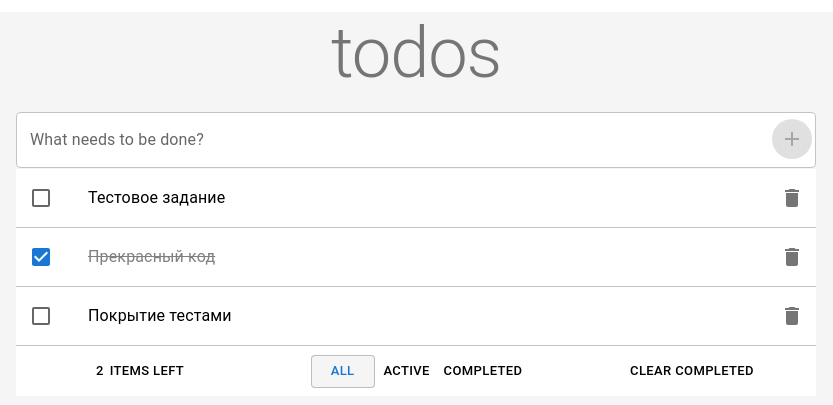
Test: TodoList › should filter tasks by completed status
This screenshot has width=833, height=405.
expect the list is shown: met, box [16,169,816,346]
expect the number of list items is 3: met, box [16,169,816,228]; [16,228,816,287]; [16,287,816,346]
Step 1. Click the button with test id "button-completed" → (483, 371), box [439,355,527,388]
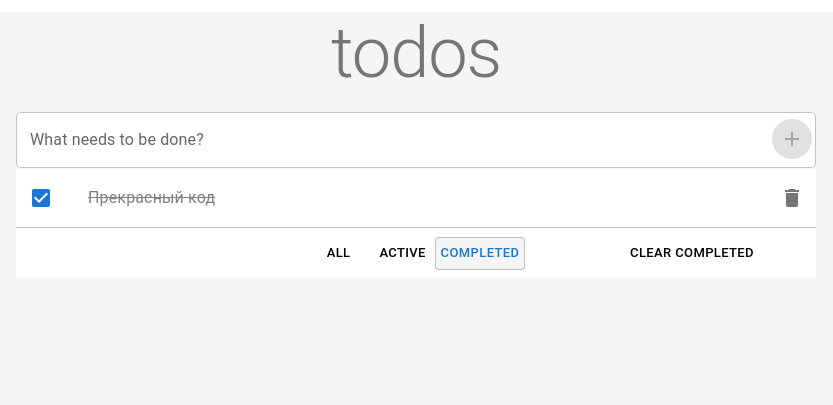
expect the number of list items is 1: met, box [16,169,816,228]
